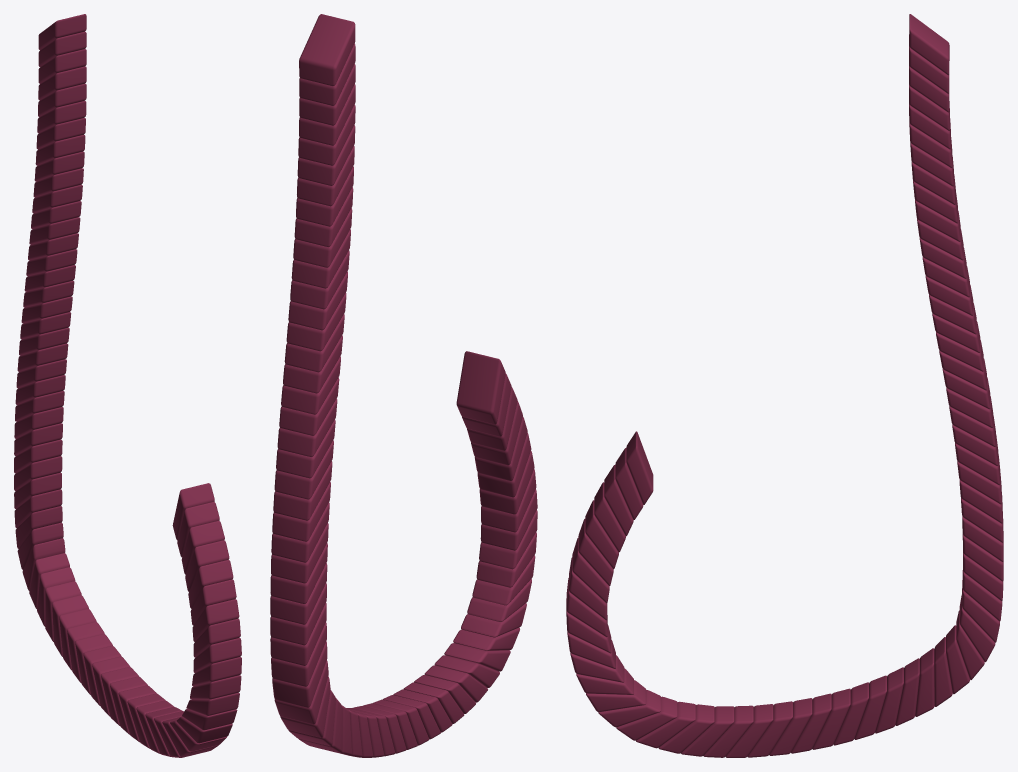
Rendered from lam.fbx.
3 views of the same model, side by side, from view 1: azimuth 30°, elevation 25°; view 2: azimuth 150°, elevation 25°; view 3: azimuth 270°, elevation 25° (orthographic). The views are drawn at different scales.
Visible parts, largest first — view 1: Cube; view 2: Cube; view 3: Cube.
Boxes of the visible parts, left/top/right/bottom form: Cube: left=14, top=14, right=241, bottom=757; Cube: left=270, top=14, right=537, bottom=757; Cube: left=566, top=14, right=1003, bottom=757.
Bounding box in the file's own units: 50 × 994 × 540.
